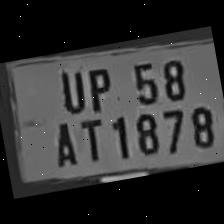1: (102, 111, 134, 162)
5: (124, 54, 162, 108)
7: (154, 104, 188, 156)
8: (126, 106, 162, 158), (182, 100, 219, 150), (154, 53, 190, 103)
A: (43, 114, 80, 169)
P: (80, 60, 116, 113)
T: (72, 113, 108, 163)
U: (49, 62, 88, 116)
